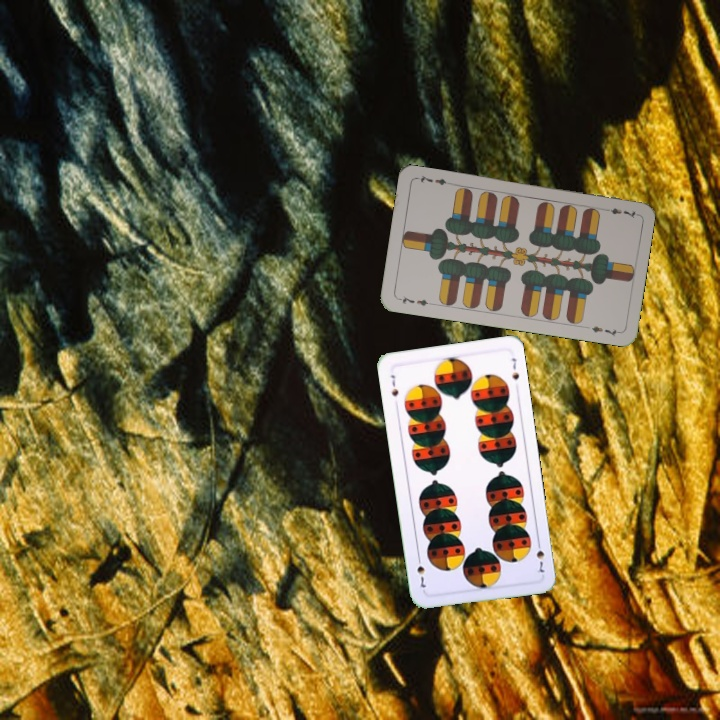E7: (394, 292, 435, 309), (599, 204, 639, 221)
S7: (532, 536, 547, 575), (387, 371, 401, 399)
